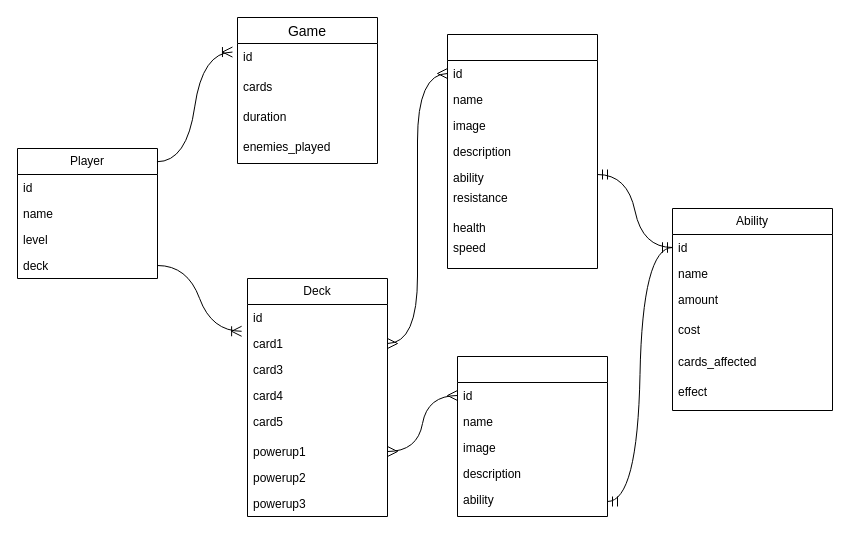
Some shapes in this 850 by 541 pixel diagram are drawn without their labels. Here are the shapes that lost their labels. From the top down, the box of each, then its label:
(446, 34, 598, 268): Character_card
(456, 356, 608, 516): Powerup_card
